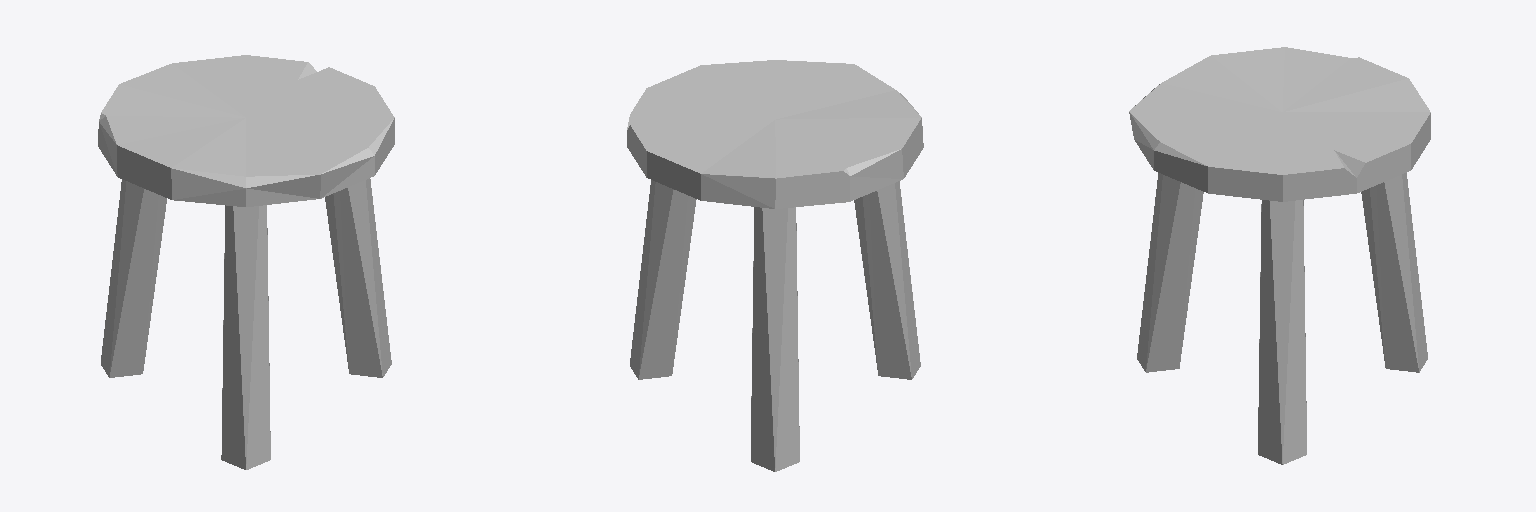
Rendered from Stool.obj.
3 views of the same model, side by side, from view 1: azimuth 30°, elevation 25°; view 2: azimuth 150°, elevation 25°; view 3: azimuth 270°, elevation 25° (orthographic).
Parts seen in each view (by area): view 1: Stool; view 2: Stool; view 3: Stool.
Boxes of the visible parts, x1=… form: Stool: x1=98, y1=55, x2=394, y2=469; Stool: x1=627, y1=60, x2=923, y2=471; Stool: x1=1129, y1=47, x2=1430, y2=464.
Size of the model in its own units: 0.5665 by 0.5616 by 0.5403.